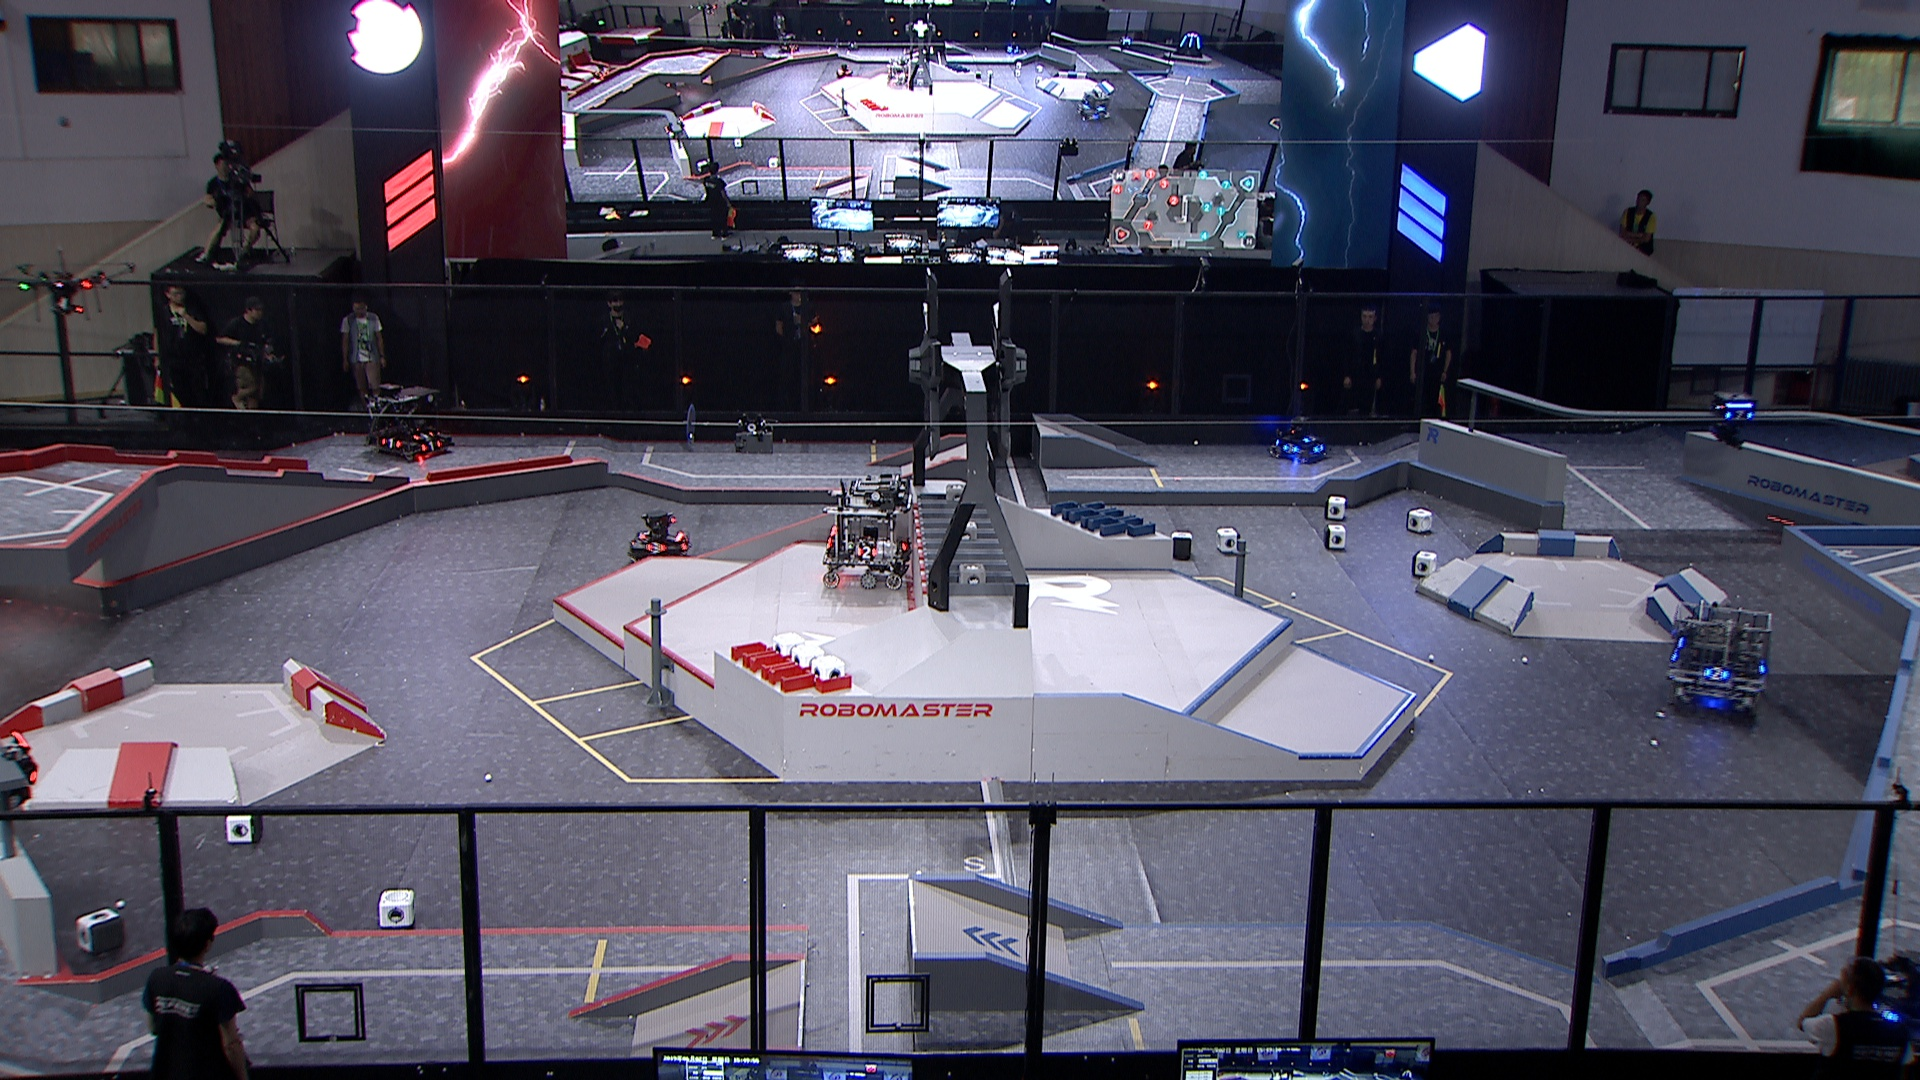armor: (1871, 1001, 1898, 1025), (1702, 665, 1731, 683), (418, 436, 444, 455), (1724, 407, 1753, 423), (409, 425, 436, 440), (380, 434, 401, 452), (858, 543, 878, 562), (645, 541, 666, 555), (1280, 442, 1302, 455), (1309, 440, 1325, 456), (1302, 433, 1320, 444), (678, 535, 692, 550), (636, 527, 651, 541)
car: (1665, 600, 1776, 709), (818, 465, 913, 591), (1841, 943, 1920, 1054), (363, 378, 460, 465), (1263, 409, 1338, 465), (624, 509, 694, 562)
ignore: (1073, 86, 1114, 123), (1174, 32, 1204, 61), (661, 112, 688, 140), (775, 29, 799, 51), (1117, 32, 1135, 51), (833, 61, 852, 78)
watcher: (1706, 384, 1756, 452)
